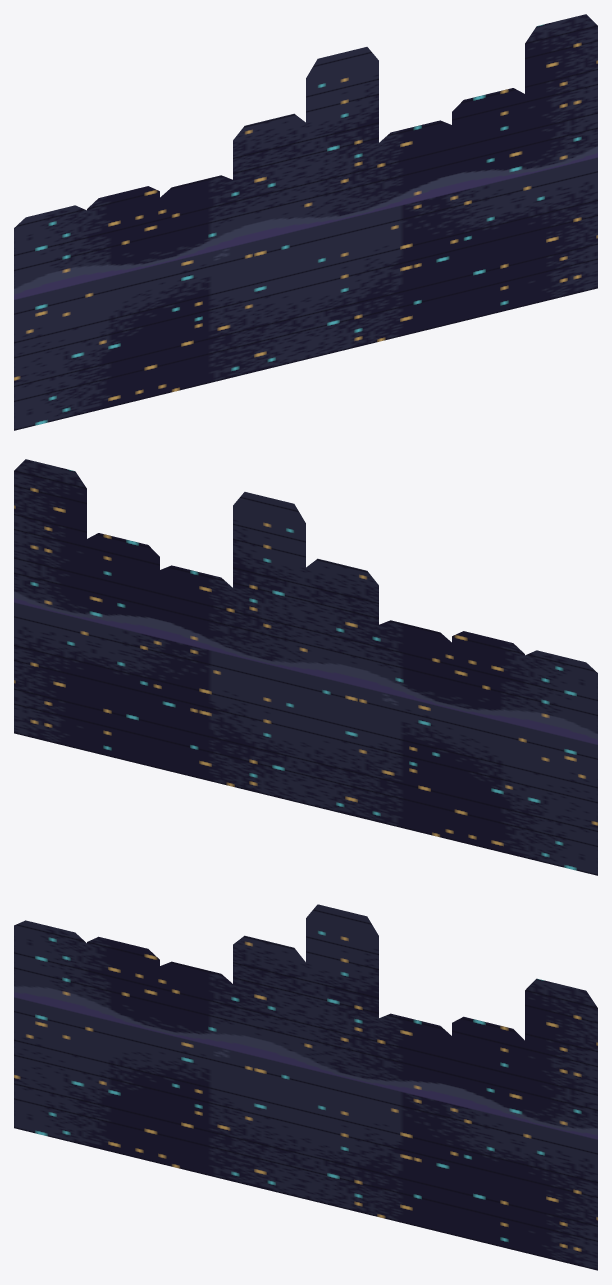
File: cysky.near__low.glb
3 views of the same model, one above another, from view 1: azimuth 30°, elevation 25°; view 2: azimuth 150°, elevation 25°; view 3: azimuth 330°, elevation 25° (orthographic).
Visible parts, largest first — view 1: kit_card_skyline; view 2: kit_card_skyline; view 3: kit_card_skyline.
Part boxes in pixels (bbox=[...]): kit_card_skyline: bbox=[14, 14, 597, 430]; kit_card_skyline: bbox=[14, 459, 597, 875]; kit_card_skyline: bbox=[14, 904, 597, 1270].
Bounding box in the file's own units: 56 × 27.3 × 0.
1 material, 1 textured.
